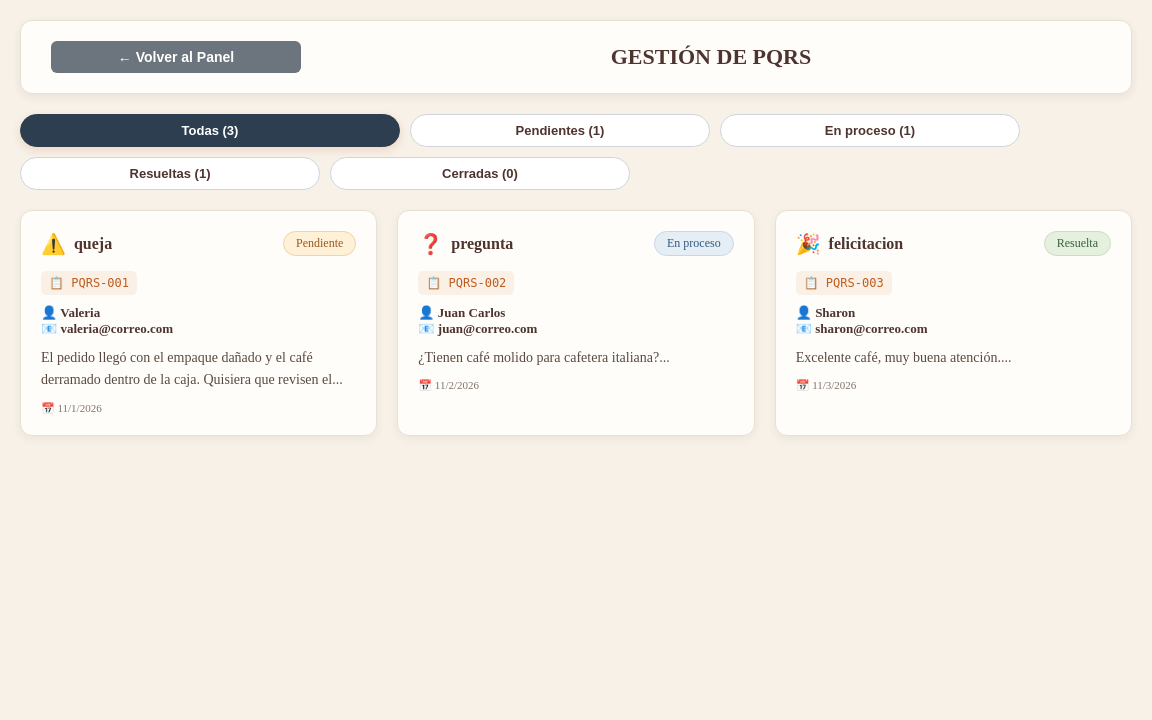
Test: VerPqrs - responder / aprobar › modal › precarga la respuesta existente en el textarea
The width and height of the screenshot is (1152, 720).
Expected: the heading "GESTIÓN DE PQRS" is shown, [611,44,811,69]
Click the text "📋 PQRS-002" at (466, 283), box [418,271,514,295]
(page scrolled)
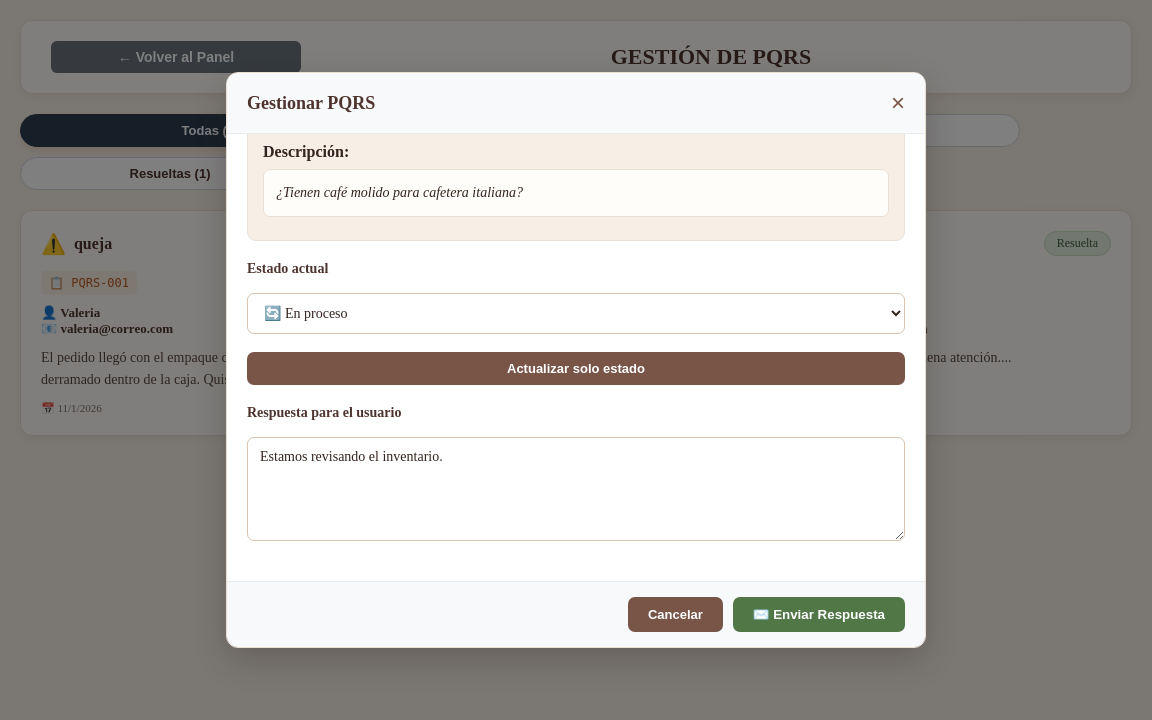
Expected: the heading "Gestionar PQRS" is shown, [247,92,375,114]
Expected: the text box with placeholder "Escribe aquí tu respuesta para el usuario..." holds "Estamos revisando el inventario.", [247,437,905,541]
